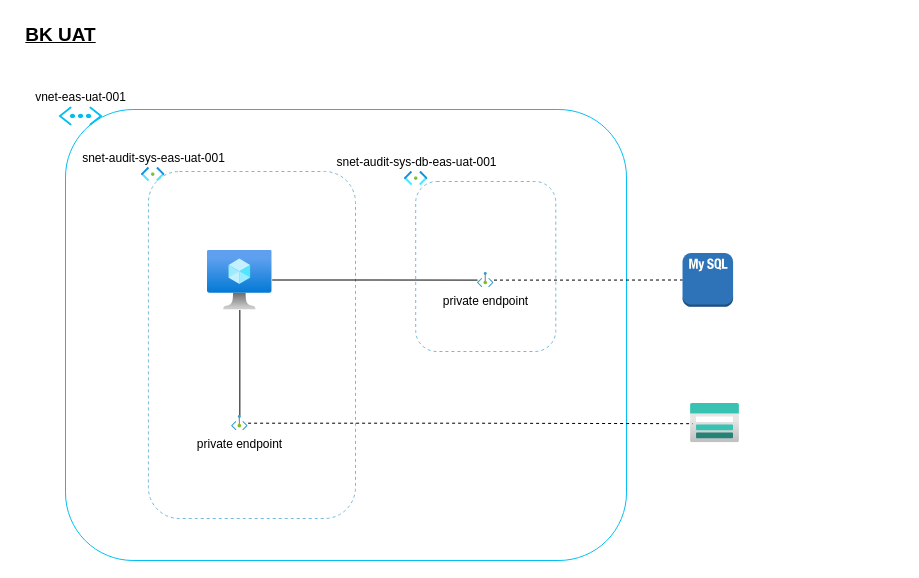
Image size: 919x578. Some labels were removed from this diagram. The shapes that lost their labels are listed below. From the top down, each one's box as (x1, y1, x2, y2) in pixels, then its label:
(207, 250, 272, 310): vmuatbkauditsys001
(682, 252, 733, 307): Azure Mysql PAAS mysql-eas-uat-audit-sys-001
(690, 403, 739, 442): Azure Storage Account sauatbkauditsys001
